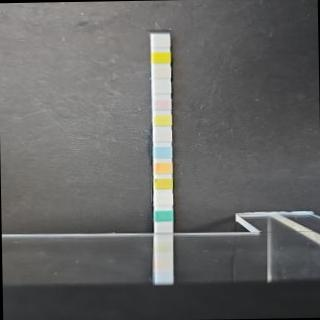mark: (152, 113, 172, 126), (153, 144, 171, 158), (152, 34, 170, 48), (154, 161, 172, 174), (151, 51, 170, 63), (154, 210, 172, 222), (152, 129, 170, 141), (154, 178, 171, 190), (153, 81, 170, 93), (154, 194, 172, 205), (153, 98, 170, 109), (153, 67, 170, 78)
